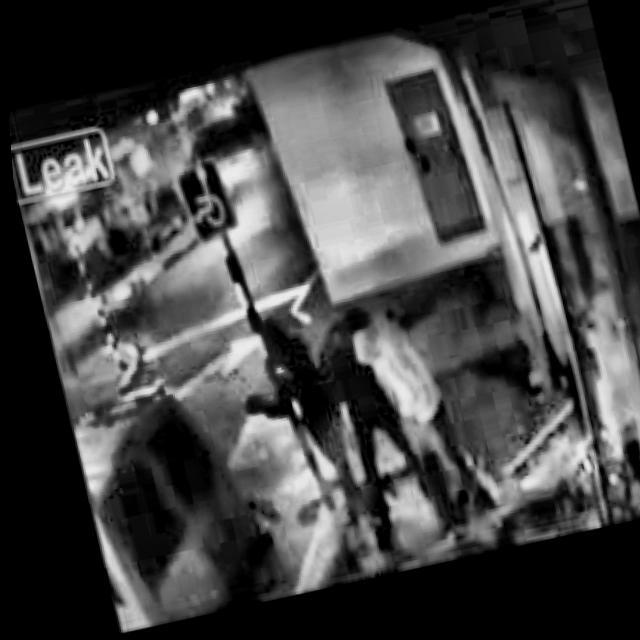Weapon: (202, 320, 500, 574)
